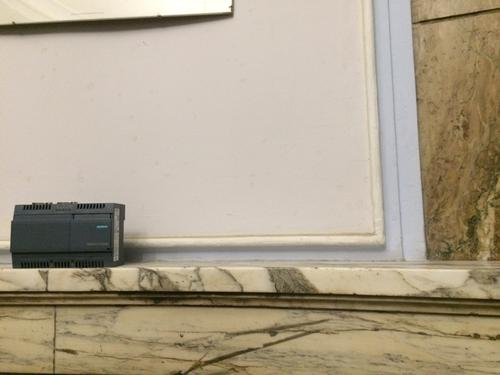iot2000: (9, 200, 126, 268)
